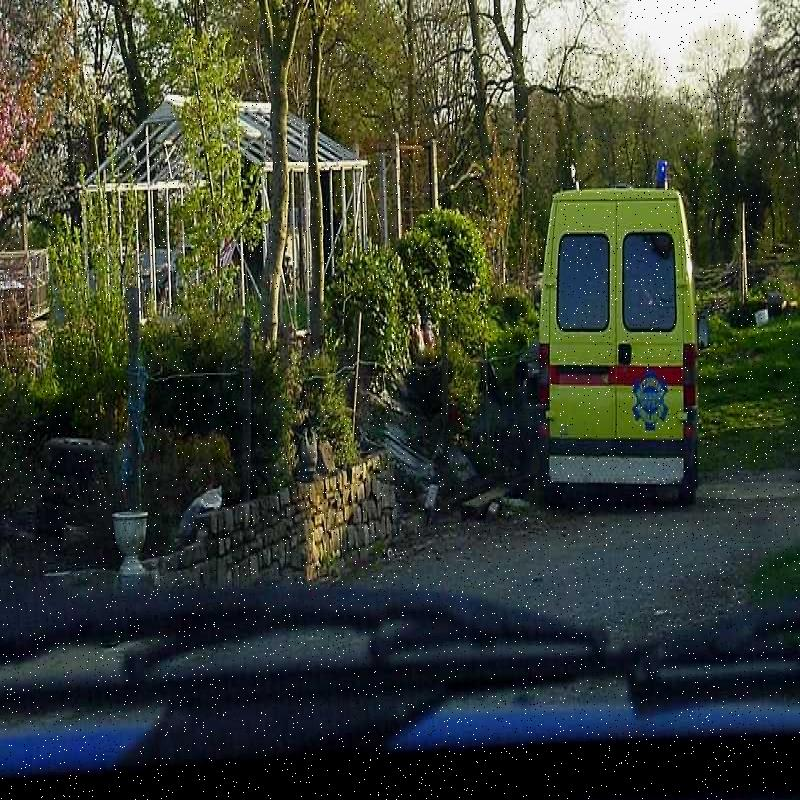AmbulanceSiren: (560, 153, 588, 191), (647, 155, 672, 195)
